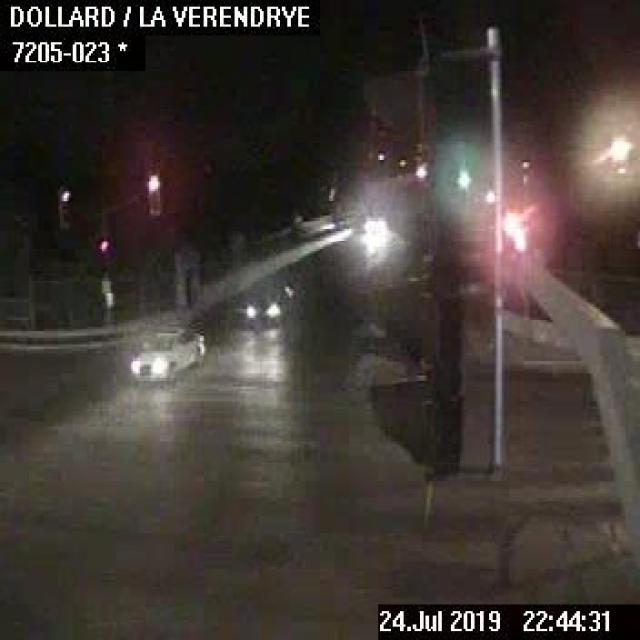vehicle: (129, 319, 205, 386), (237, 274, 294, 327), (360, 207, 393, 233)
